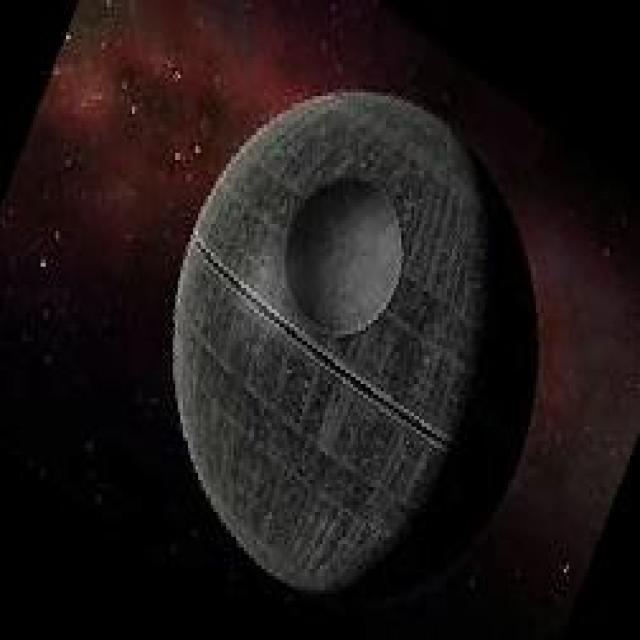Death Star: (165, 82, 505, 594)
